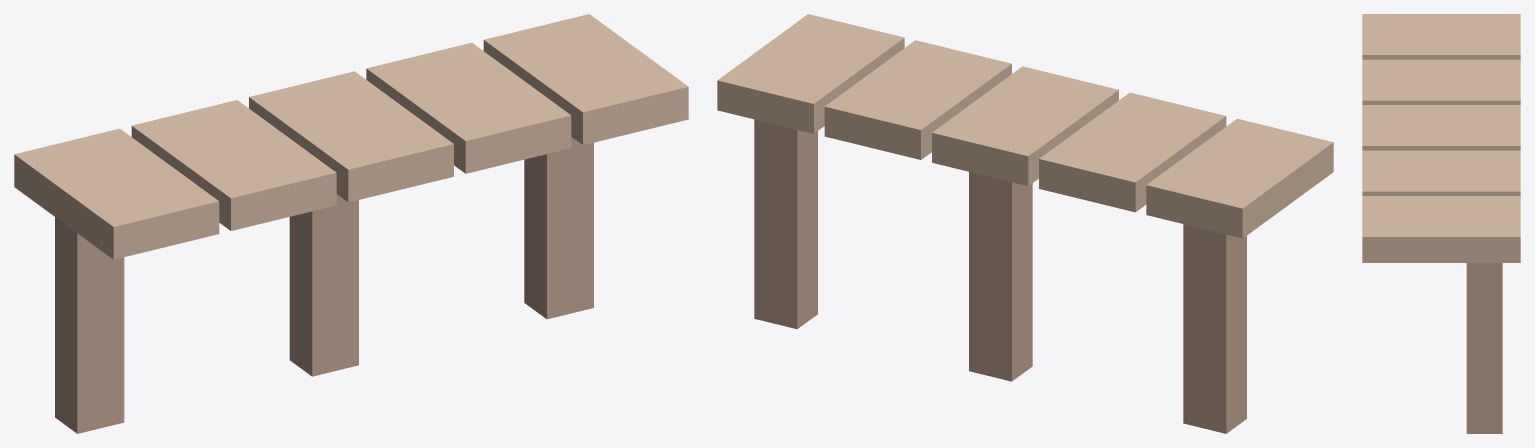
File: dry_wash_bridge_far-C9WGn78x.glb
3 renders of one model, left to right at view 1: azimuth 30°, elevation 25°; view 2: azimuth 150°, elevation 25°; view 3: azimuth 270°, elevation 25°, orthographic. The views are drawn at different scales.
Visible parts, largest first — view 1: dry_wash_bridge_far; view 2: dry_wash_bridge_far; view 3: dry_wash_bridge_far.
Boxes of the visible parts, x1,y1,x2,y2 form: dry_wash_bridge_far: (14, 14, 688, 433); dry_wash_bridge_far: (717, 14, 1333, 433); dry_wash_bridge_far: (1362, 14, 1520, 433).
Bounding box in the file's own units: 14.7 × 6.4 × 4.4.
